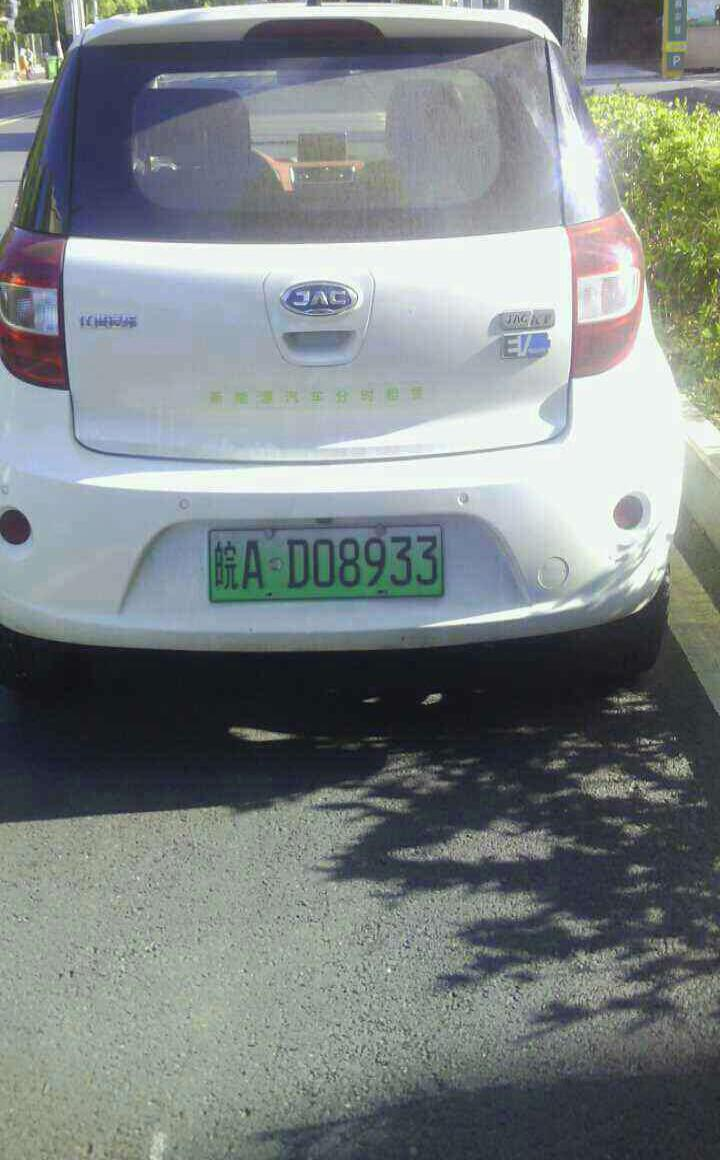car_id: (207, 526, 444, 599)
